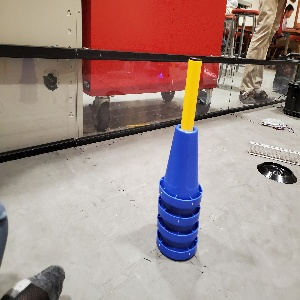Blue_4: (155, 120, 202, 261)
